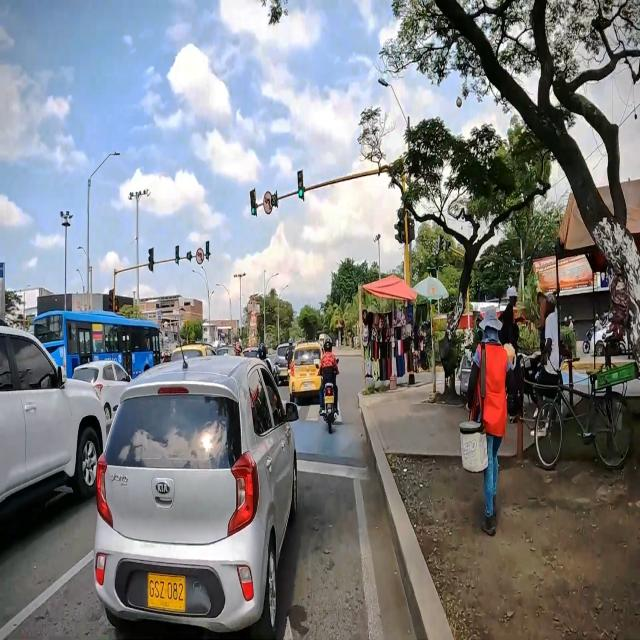license_plate: (146, 572, 186, 612)
